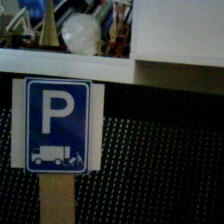load: (15, 70, 98, 178)
